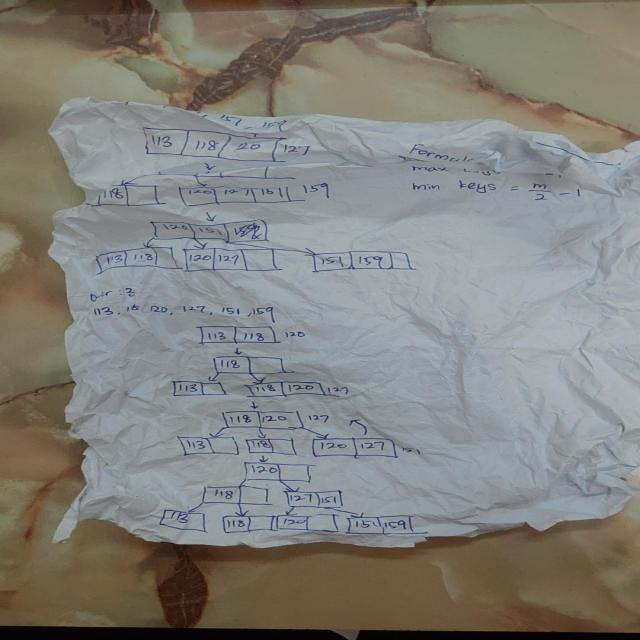paper: (39, 97, 640, 551)
